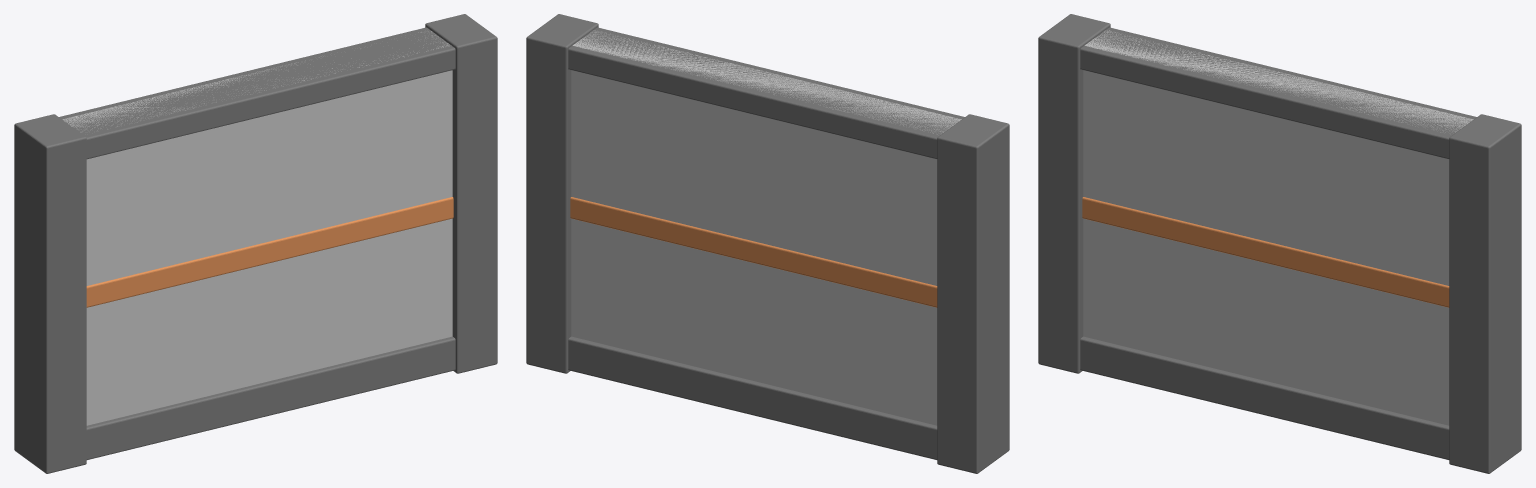
The model's file is wall.glb.
3 renders of one model, left to right at view 1: azimuth 30°, elevation 25°; view 2: azimuth 150°, elevation 25°; view 3: azimuth 330°, elevation 25°, orthographic.
Visible parts, largest first — view 1: ModularWall; view 2: ModularWall; view 3: ModularWall.
Boxes of the visible parts, x1,y1,x2,y2 form: ModularWall: (14, 14, 497, 473); ModularWall: (526, 14, 1009, 473); ModularWall: (1038, 14, 1521, 473).
Size of the model in its own units: 4.4 by 3.05 by 0.55.
